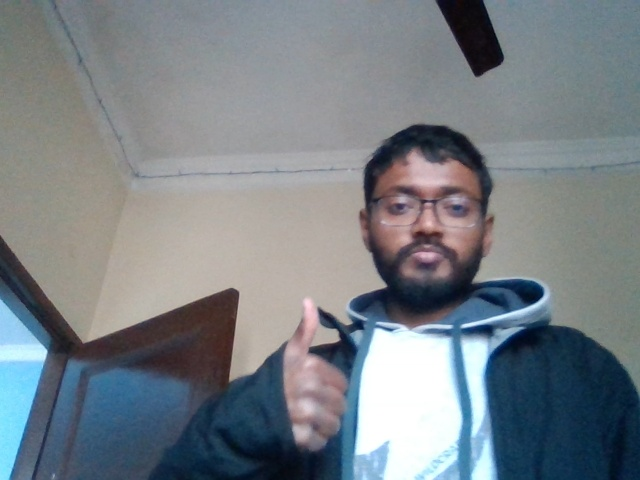good: (230, 282, 364, 455)
